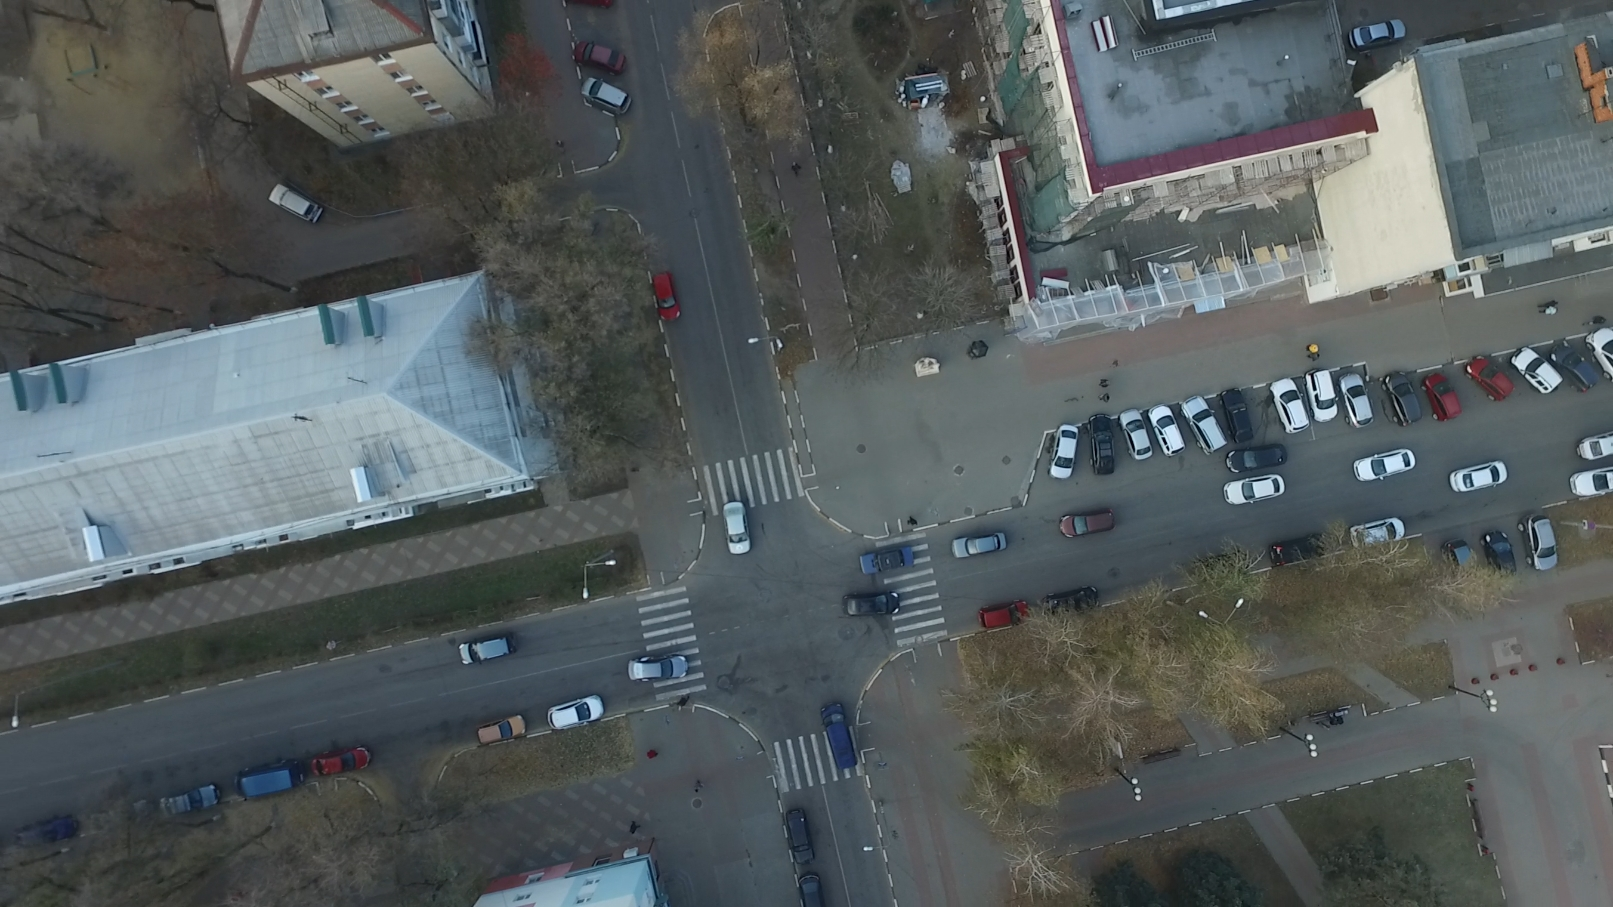car: (1180, 393, 1227, 454), (233, 760, 309, 797), (1510, 346, 1562, 398), (1549, 339, 1597, 394), (819, 702, 857, 771), (1380, 368, 1422, 429), (1463, 351, 1514, 401), (268, 181, 323, 225), (1517, 512, 1559, 569), (1264, 532, 1331, 566), (1271, 378, 1311, 433), (13, 812, 78, 846), (581, 75, 631, 118), (1352, 449, 1417, 482), (1337, 372, 1376, 427), (1422, 371, 1463, 423), (1147, 404, 1185, 458), (1303, 368, 1340, 423), (1348, 14, 1407, 50), (459, 632, 518, 667), (543, 695, 604, 729), (1223, 472, 1284, 505), (1480, 530, 1519, 583), (1218, 388, 1253, 443), (720, 501, 756, 555), (1042, 426, 1078, 481), (1118, 408, 1154, 460), (157, 783, 219, 813), (574, 41, 626, 76), (309, 745, 370, 775), (783, 807, 814, 866), (1059, 506, 1118, 537), (89, 798, 148, 828), (1087, 415, 1116, 477), (1349, 518, 1406, 549), (1192, 552, 1249, 583), (1451, 461, 1508, 492), (625, 655, 688, 682), (949, 530, 1010, 558), (1045, 586, 1102, 615), (1439, 538, 1475, 585), (977, 599, 1031, 629), (475, 714, 527, 745), (840, 592, 902, 618), (859, 547, 914, 575), (1226, 445, 1287, 470), (1570, 465, 1613, 498), (654, 274, 682, 322), (1578, 427, 1613, 462), (800, 870, 823, 907)
